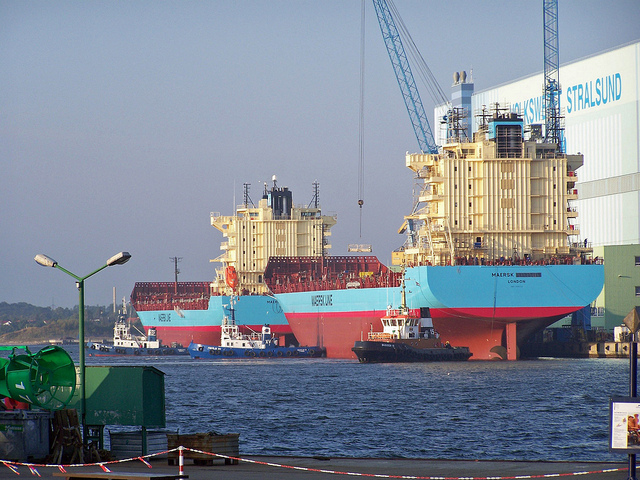container_ship: (265, 104, 600, 362), (134, 187, 325, 340)
tug_boat: (355, 275, 471, 358), (186, 306, 330, 358), (91, 308, 185, 356)
